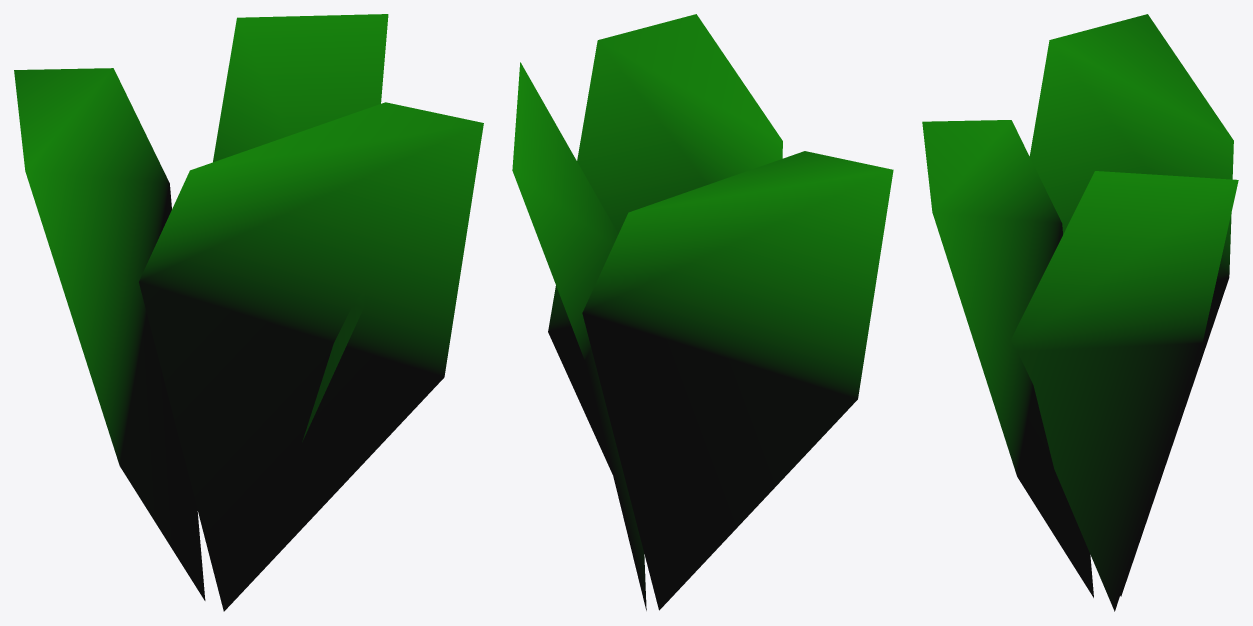
The model's file is Rice_3.fbx.
3 renders of one model, left to right at view 1: azimuth 30°, elevation 25°; view 2: azimuth 150°, elevation 25°; view 3: azimuth 270°, elevation 25°, orthographic. The views are drawn at different scales.
Parts seen in each view (by area): view 1: Rice_3; view 2: Rice_3; view 3: Rice_3.
Boxes of the visible parts, x1,y1,x2,y2 form: Rice_3: (14,14,483,611); Rice_3: (512,14,893,610); Rice_3: (922,14,1238,611).
Size of the model in its own units: 51.58 by 70.27 by 39.28.
